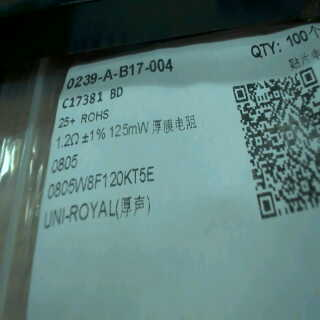1.2R: (47, 130, 81, 174)
